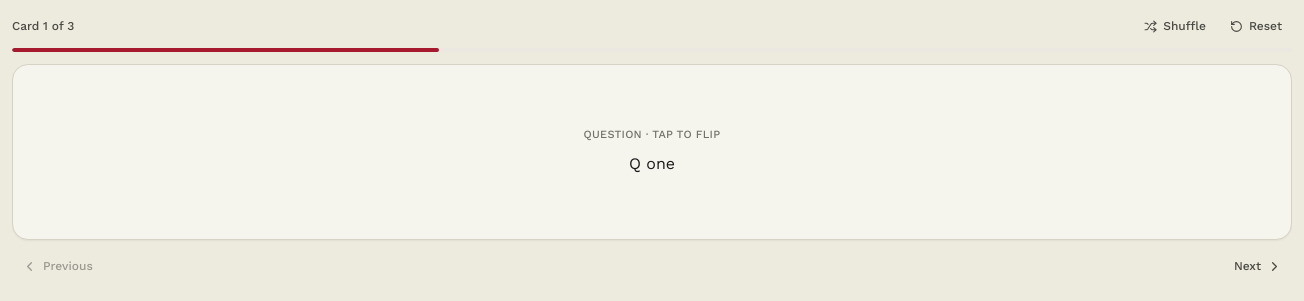
Test: FlashcardViewer › reset returns to the first card in original order
What coordinates should you click on to do the following:
click the button with aria-label "Next card"
I would click on:
 (1258, 266)
Its box is [1224,252,1292,280].
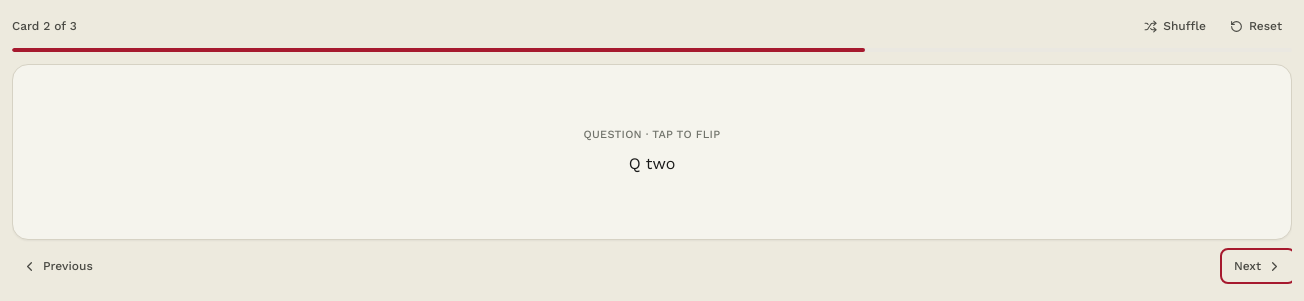
What coordinates should you click on to do the following:
click the button "Reset"
I would click on:
 (1256, 26)
Its box is [1220,12,1292,40].
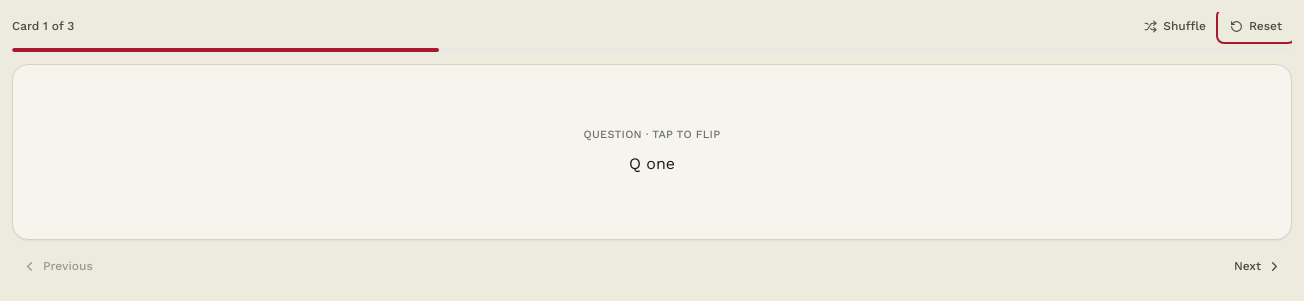
Check: the text "Card 1 of 3" is shown, box [12,18,74,34]
Check: the text "Q one" is shown, box [629,154,675,173]
